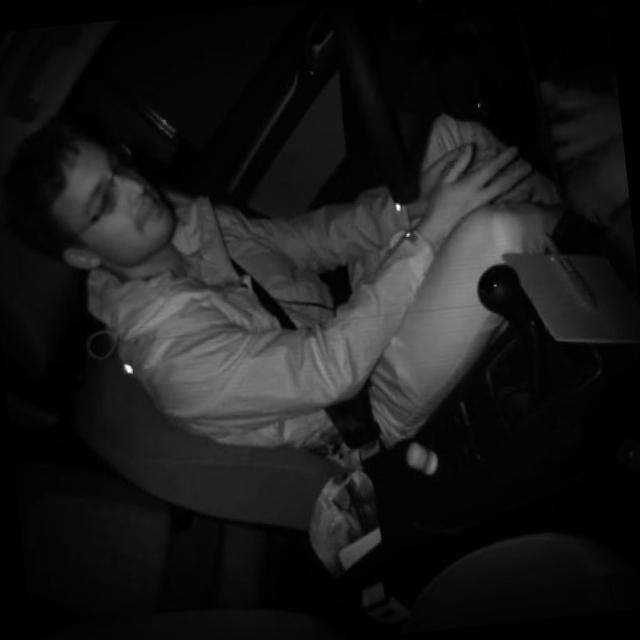pen: (540, 218, 600, 319)
